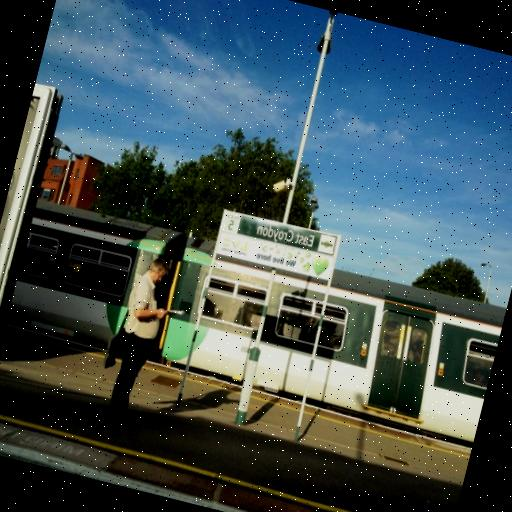platform_edge: (0, 383, 457, 512)
